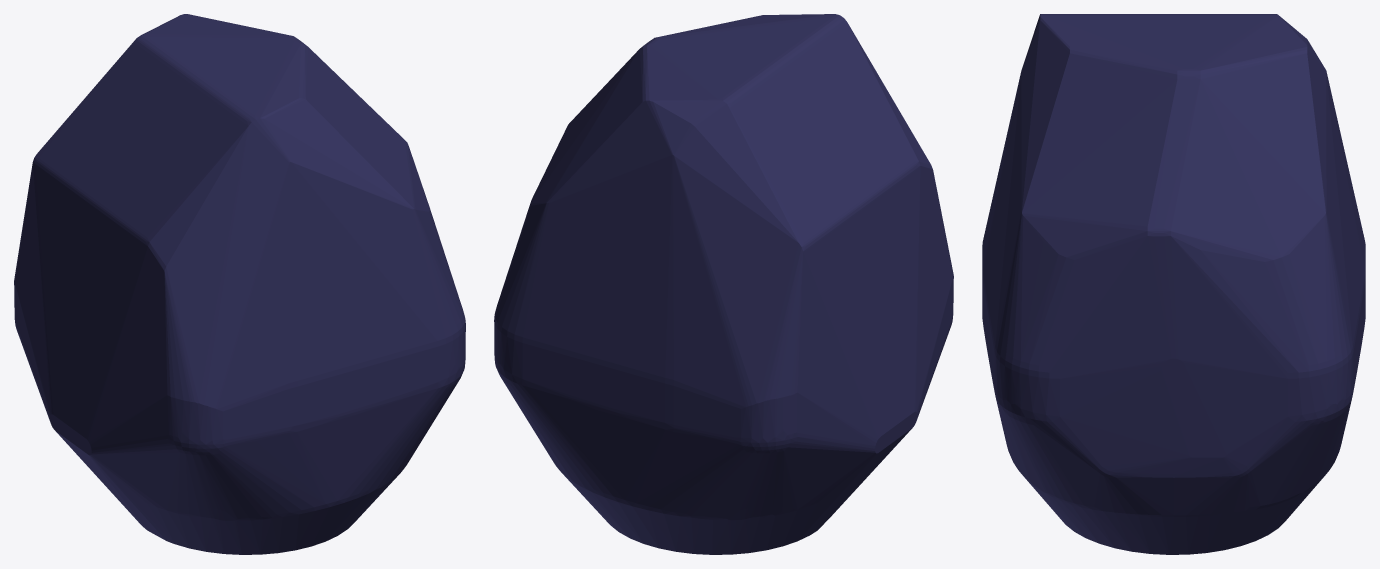
The model's file is GRIPPER_CLOSED.dae.
The picture shows the model from 3 angles, left to right: view 1: azimuth 30°, elevation 25°; view 2: azimuth 150°, elevation 25°; view 3: azimuth 270°, elevation 25°; orthographic projection. The views are drawn at different scales.
Parts seen in each view (by area): view 1: GRIPPER_CLOSED; view 2: GRIPPER_CLOSED; view 3: GRIPPER_CLOSED.
Boxes of the visible parts, x1,y1,x2,y2 form: GRIPPER_CLOSED: [14, 14, 465, 554]; GRIPPER_CLOSED: [494, 14, 953, 554]; GRIPPER_CLOSED: [982, 14, 1365, 554].
Bounding box in the file's own units: 0.1352 × 0.1302 × 0.1733.
